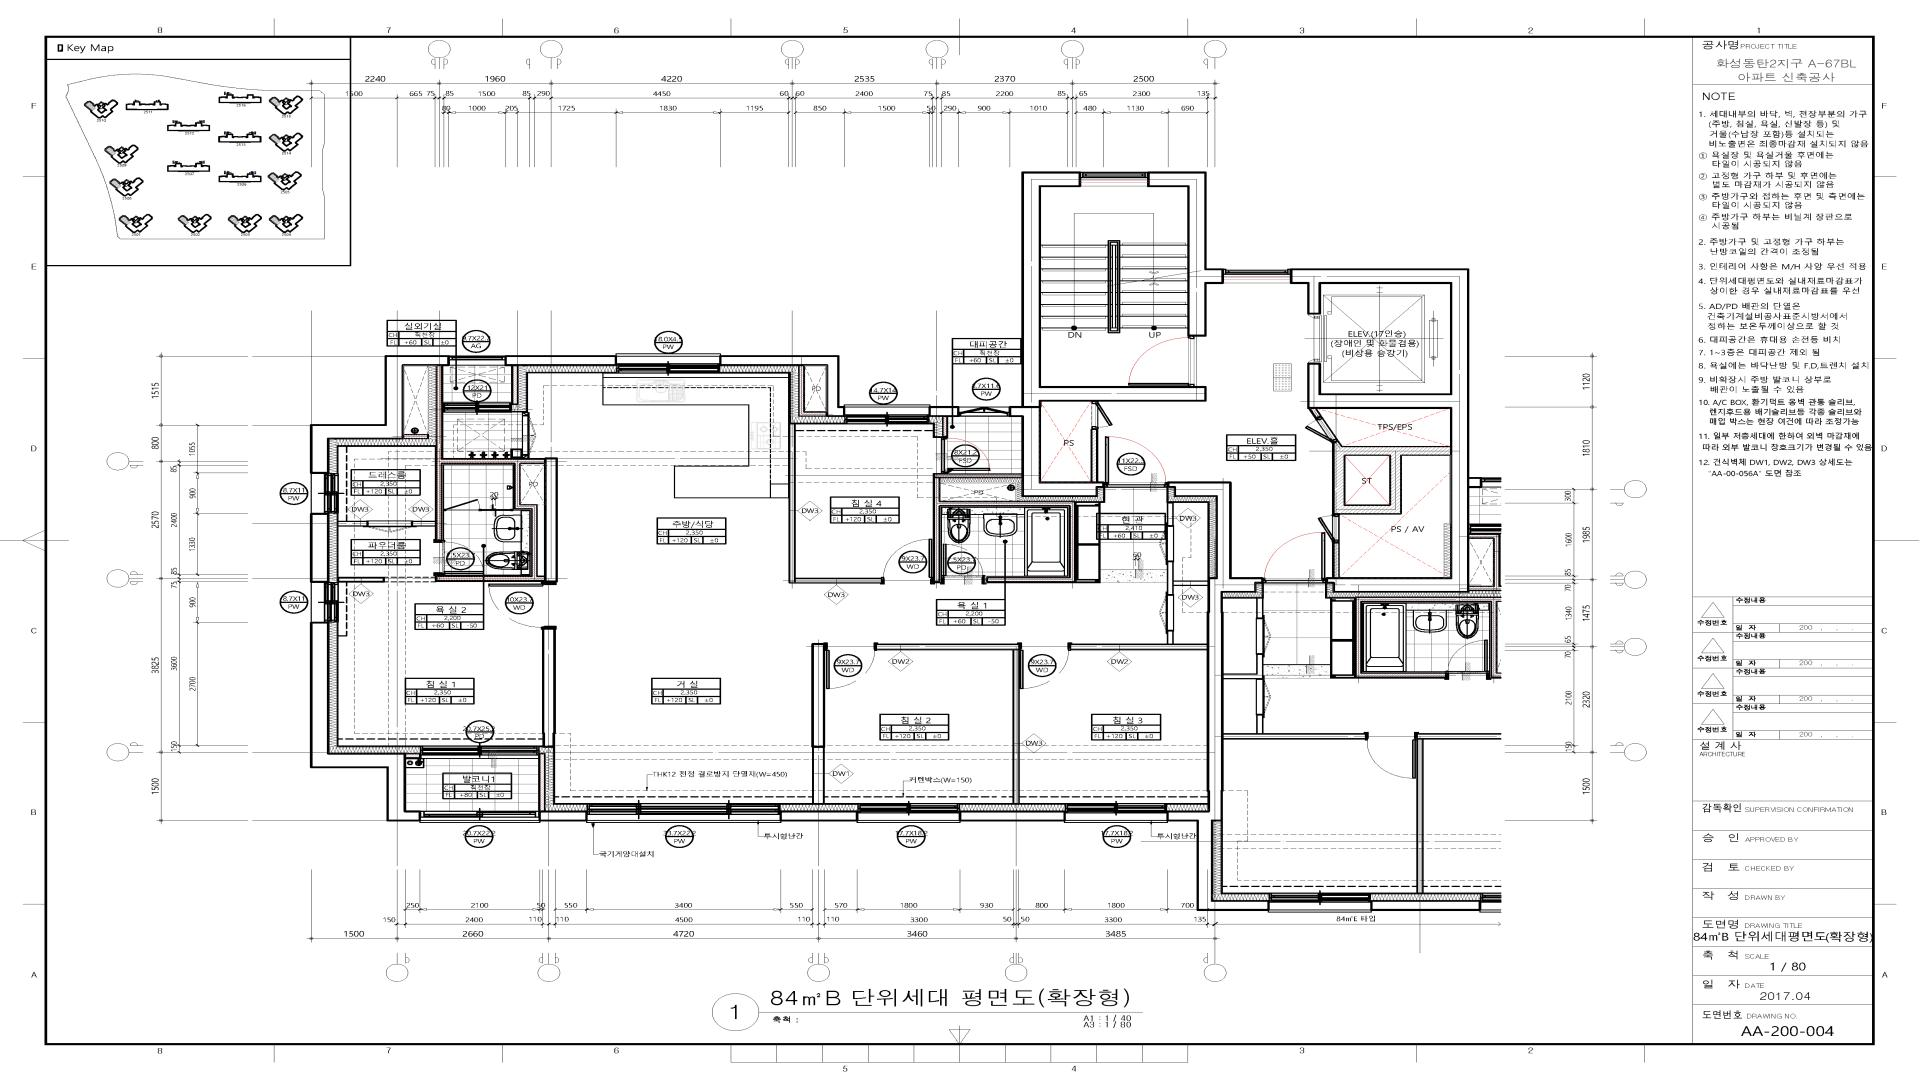door: (1129, 336, 1197, 385), (1105, 436, 1167, 489), (488, 582, 556, 629), (1019, 642, 1072, 690), (824, 642, 877, 690), (882, 539, 934, 584), (942, 543, 986, 584), (433, 539, 484, 575), (942, 438, 990, 473), (1300, 417, 1338, 450), (522, 413, 537, 458), (1091, 402, 1114, 429), (1317, 514, 1340, 542), (369, 521, 413, 533), (444, 498, 481, 512)
wall: (1009, 171, 1207, 497), (1290, 269, 1469, 593), (1167, 481, 1270, 911), (435, 367, 545, 582), (877, 644, 1021, 803), (310, 622, 419, 822), (309, 356, 450, 473), (789, 423, 882, 584), (932, 479, 1076, 583), (1147, 171, 1225, 338), (1333, 440, 1451, 514), (720, 355, 845, 417), (1072, 632, 1207, 650), (811, 644, 824, 804), (542, 630, 556, 748), (545, 458, 558, 582), (309, 513, 330, 583), (798, 367, 825, 417), (1167, 562, 1208, 595), (505, 355, 617, 367), (959, 811, 1067, 822), (779, 811, 858, 822), (538, 811, 588, 822), (932, 473, 1022, 479), (538, 754, 546, 810), (1091, 429, 1098, 481), (928, 406, 960, 417), (338, 576, 385, 583), (1332, 542, 1340, 578), (512, 367, 518, 405), (338, 521, 369, 526), (1167, 504, 1174, 526), (942, 417, 948, 438), (405, 434, 429, 439), (413, 521, 435, 526), (406, 753, 421, 760), (1309, 410, 1321, 418)
window: (587, 803, 779, 823), (617, 353, 721, 373), (1065, 803, 1167, 823), (858, 803, 959, 823), (844, 405, 930, 425), (421, 745, 538, 758), (419, 811, 538, 823), (311, 473, 339, 513), (311, 584, 339, 622), (1083, 171, 1147, 186), (1225, 269, 1290, 284), (443, 402, 512, 413), (960, 406, 1009, 417), (450, 356, 505, 365)
